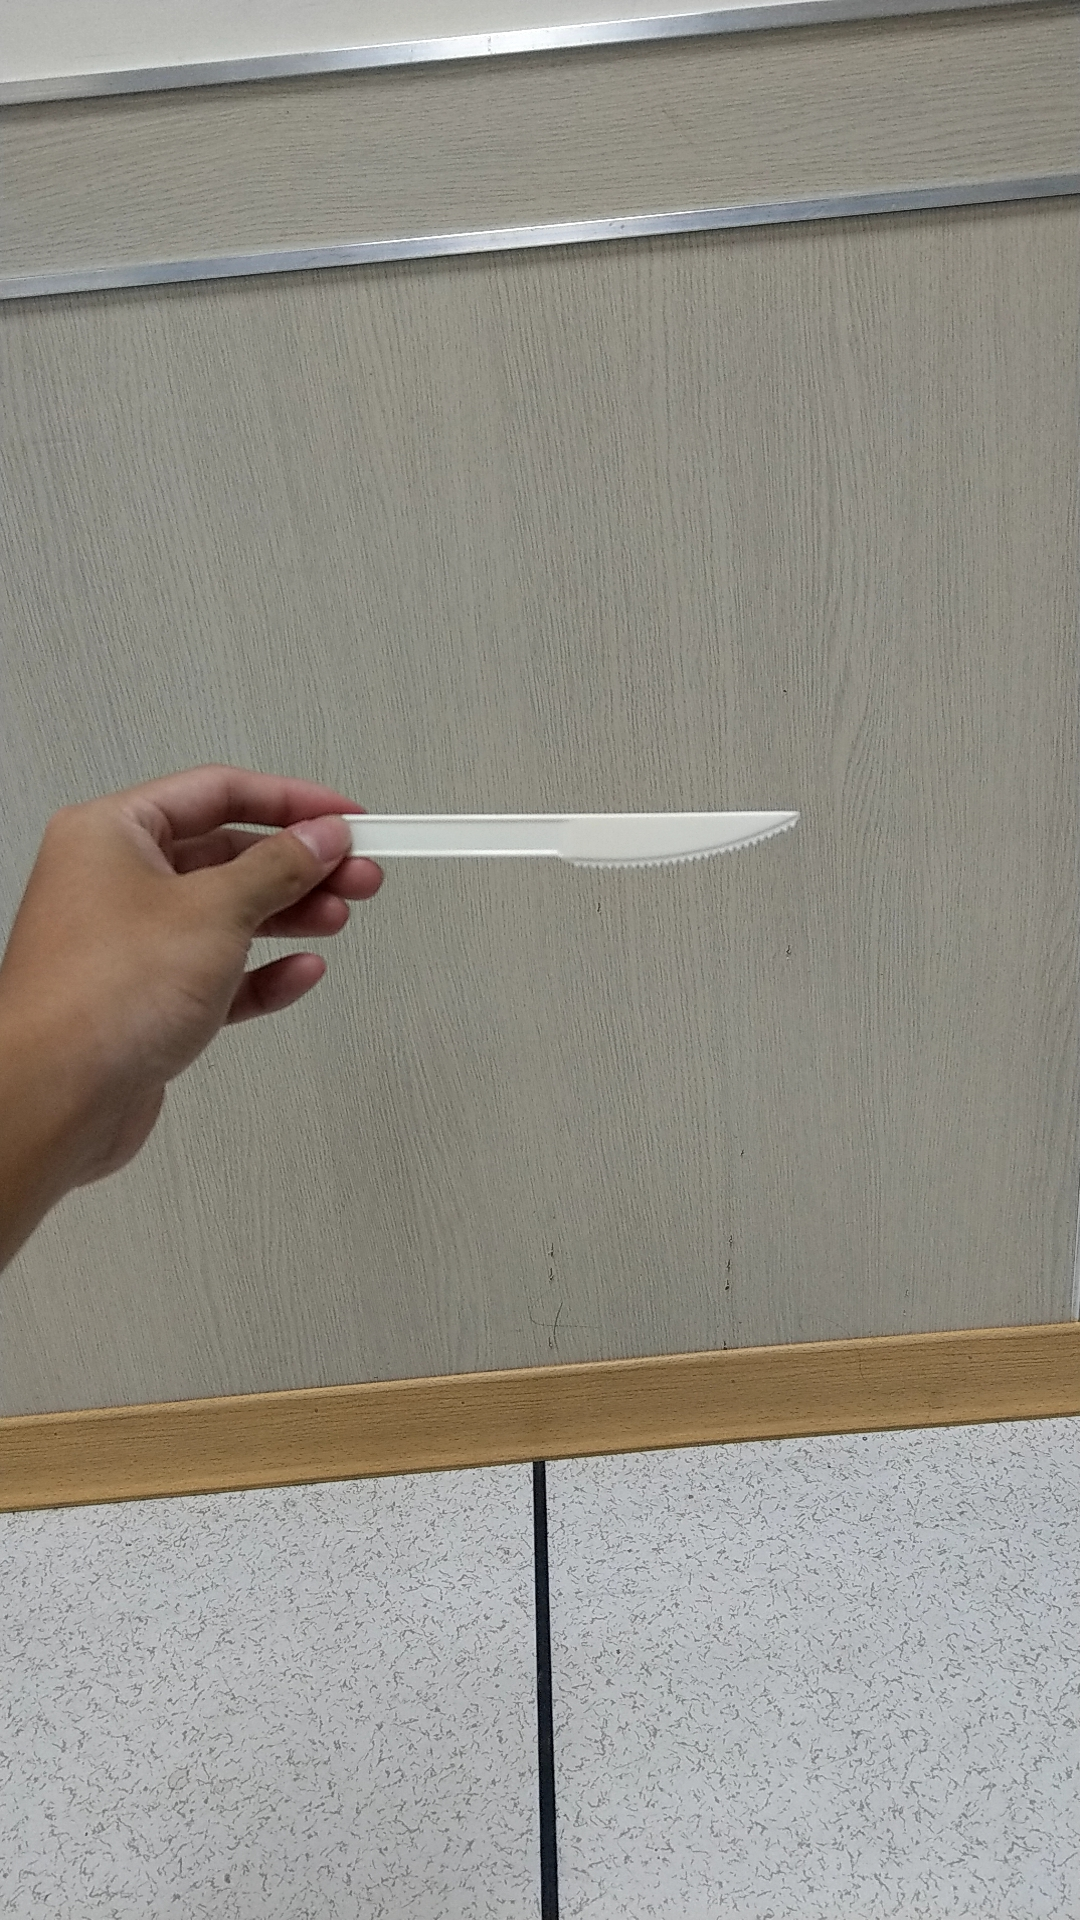knife: (343, 789, 836, 882)
